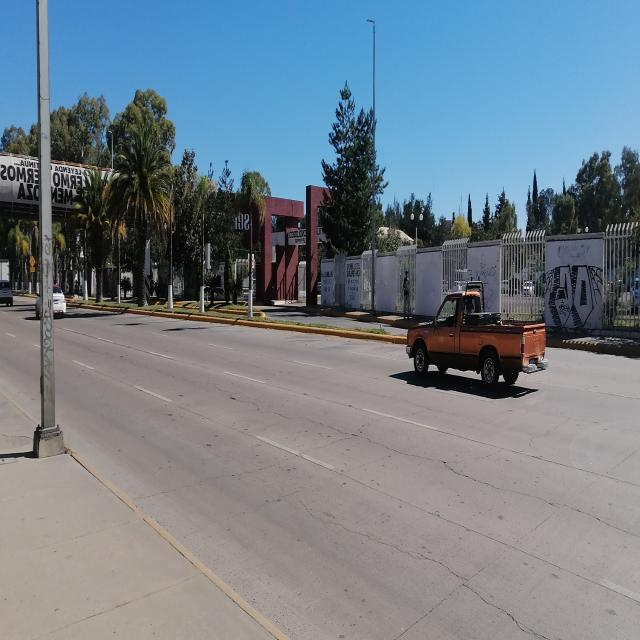Auto: (405, 278, 547, 385)
